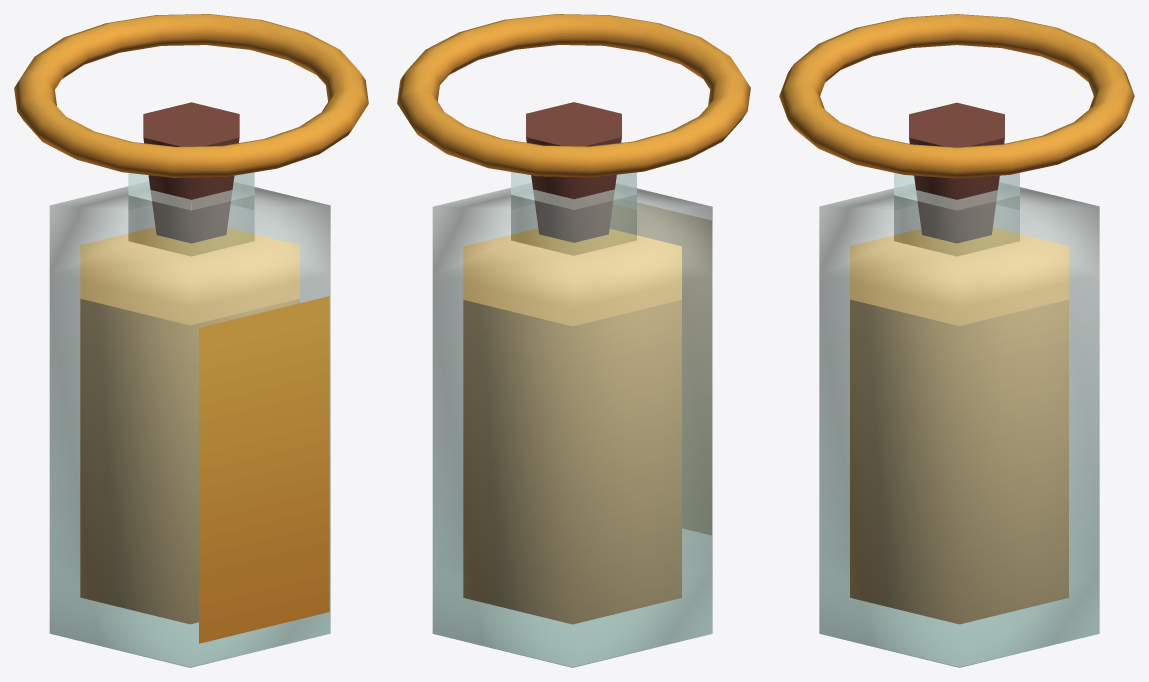
The model's file is angel_blood_Adjusted.fbx.
3 views of the same model, side by side, from view 1: azimuth 30°, elevation 25°; view 2: azimuth 150°, elevation 25°; view 3: azimuth 270°, elevation 25° (orthographic).
Parts seen in each view (by area): view 1: AngelTears_adjusted; view 2: AngelTears_adjusted; view 3: AngelTears_adjusted.
Part boxes in pixels (left/top/right/bottom): AngelTears_adjusted: left=14, top=14, right=368, bottom=667; AngelTears_adjusted: left=397, top=14, right=750, bottom=667; AngelTears_adjusted: left=779, top=14, right=1134, bottom=667.
Size of the model in its own units: 7.56 by 13.7 by 7.55.
